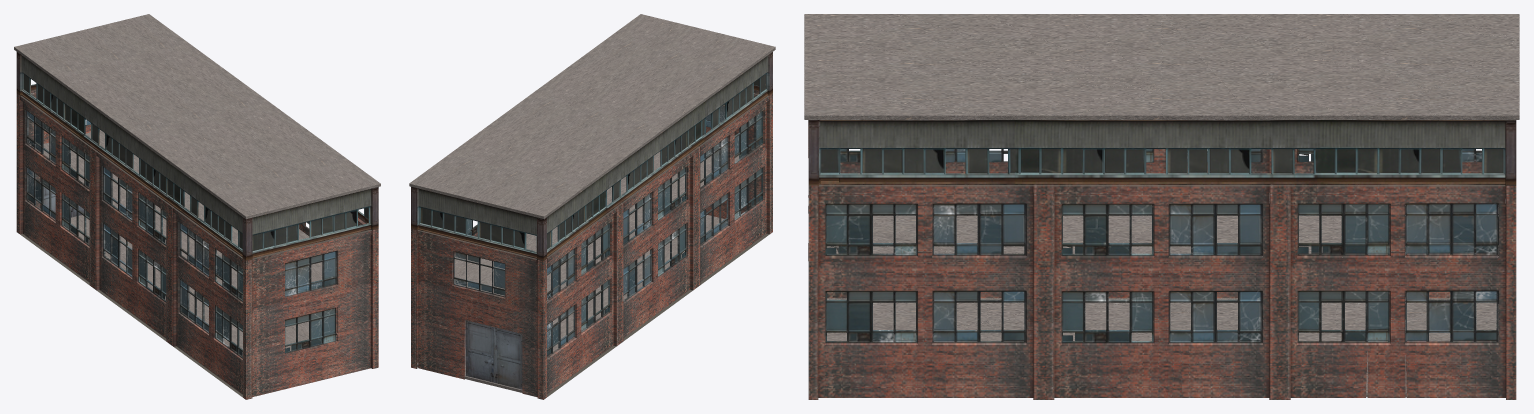
File: garage-old-industrial-building.glb
3 views of the same model, side by side, from view 1: azimuth 30°, elevation 25°; view 2: azimuth 150°, elevation 25°; view 3: azimuth 270°, elevation 25° (orthographic). The views are drawn at different scales.
Parts seen in each view (by area): view 1: building _building _0, building floor, building top, building windows; view 2: building _building _0 (×2), building floor, building top, building windows; view 3: building _building _0 (×2), building floor, building windows, building top.
Part boxes in pixels (x1,y1,x2,y2): building _building _0: (16,89,378,399); building floor: (14,14,380,355); building top: (16,52,378,261); building windows: (24,74,368,356); building _building _0 (×2): (411,90,772,399); building floor: (409,14,775,392); building top: (411,52,772,261); building windows: (420,74,765,356); building _building _0 (×2): (808,120,1516,399); building floor: (804,14,1519,397); building windows: (820,149,1503,340); building top: (808,120,1516,186).
Size of the model in its own units: 1161 by 1517 by 3451.
3 materials, 3 textured.
